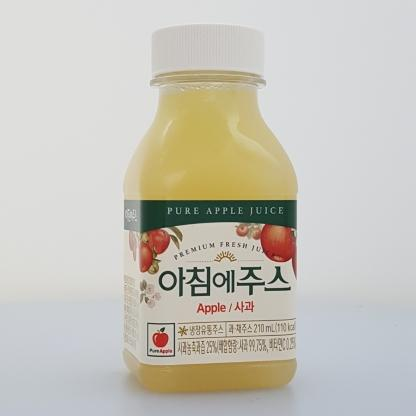-----------210ML: (123, 23, 298, 392)
